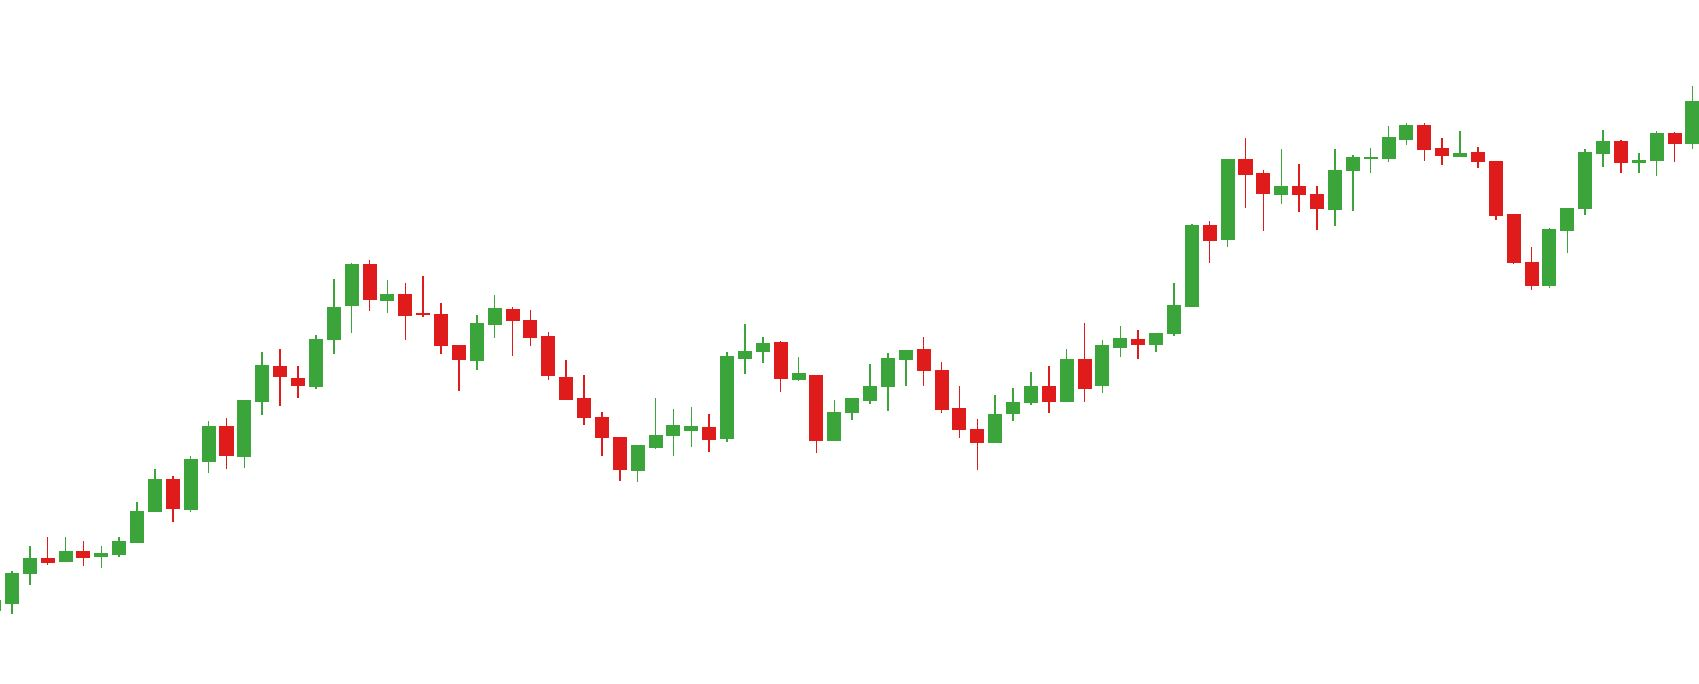buy: (1201, 177, 1557, 295), (810, 380, 1003, 473)
